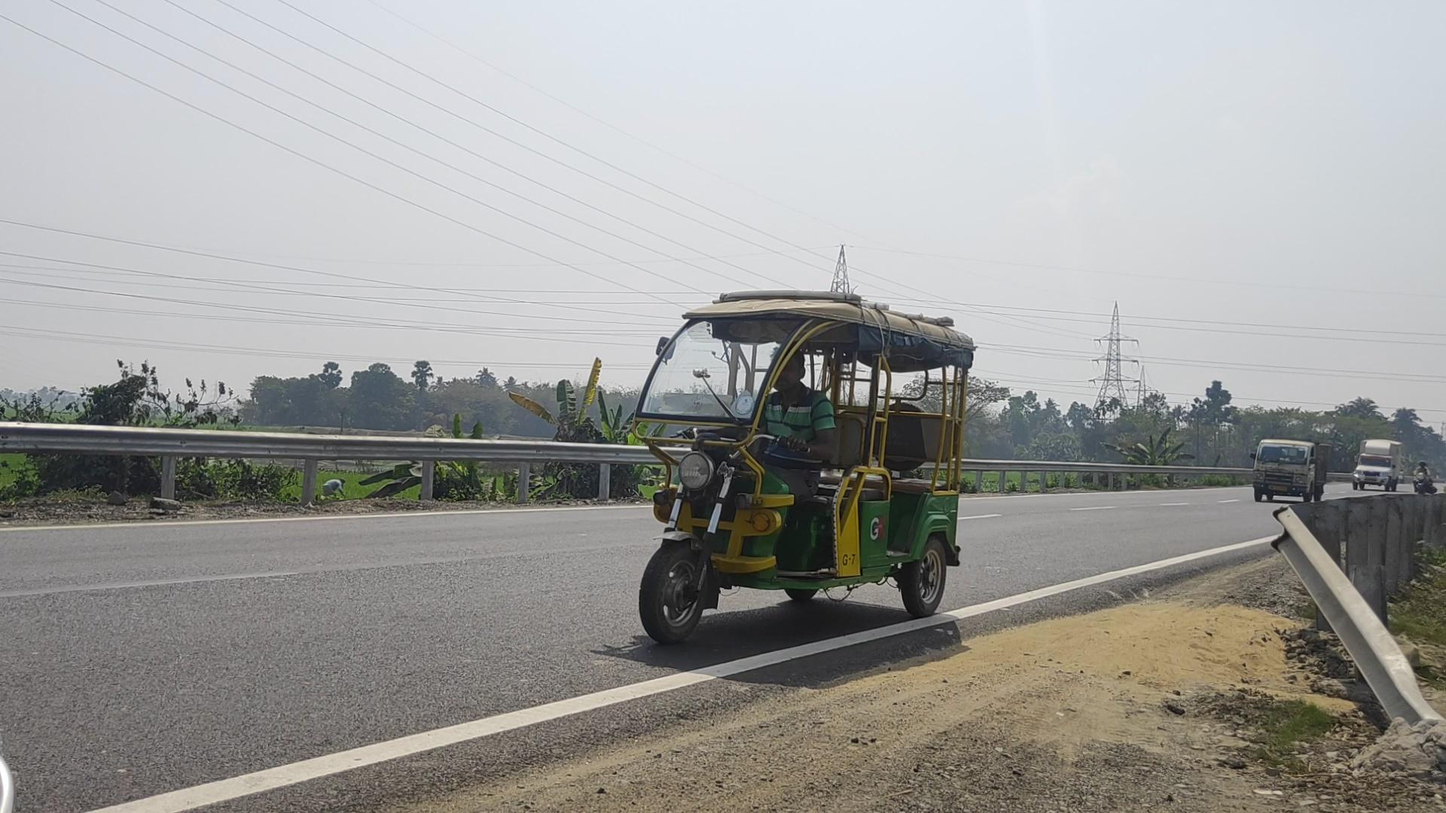Auto: (631, 290, 975, 645)
bike: (1412, 460, 1436, 501)
van: (1250, 436, 1331, 504), (1352, 438, 1402, 492)
